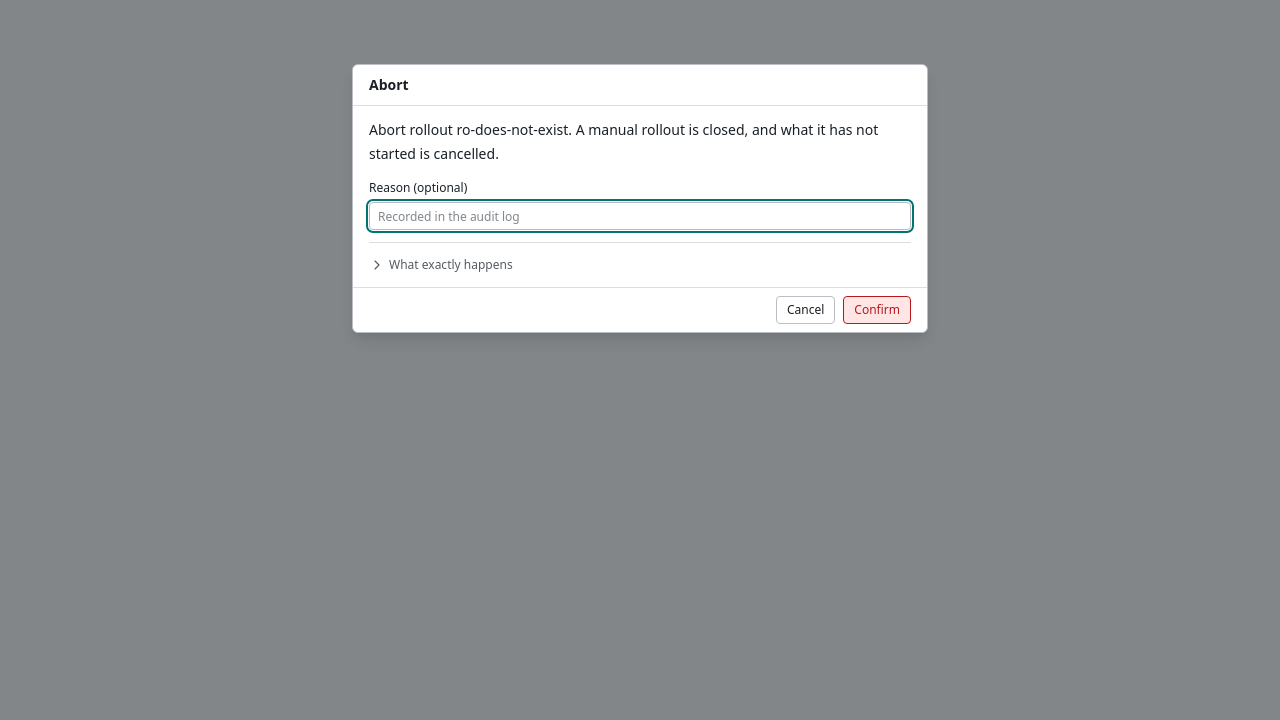
Test: ActionDialog: behaviour › states what will happen, shows a failed action and stays open
Click the button "Confirm": x=877, y=310 [843,296,911,324]
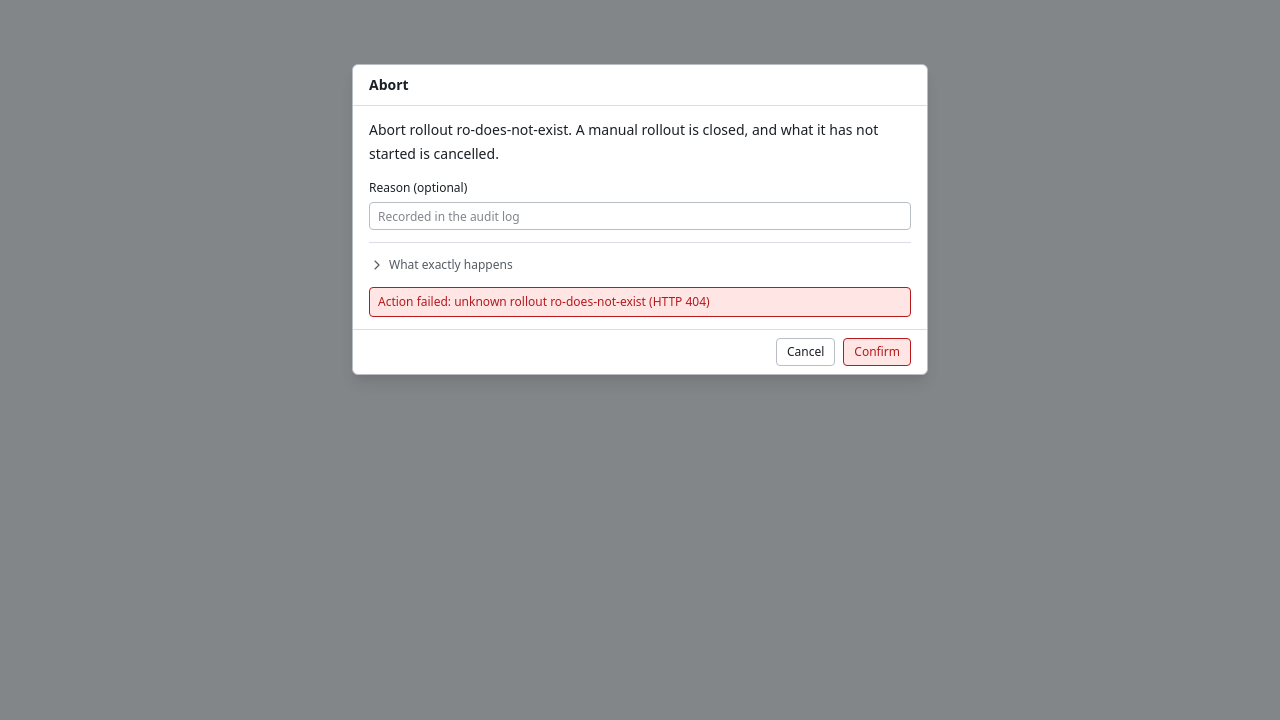
Expected: the button "Confirm" is enabled, [843,338,911,366]
Now the message shows "unknown rollout ro-does-not-exist (HTTP 404)", box [454,293,710,310]
